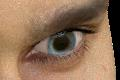eye: (49, 30, 75, 55)
